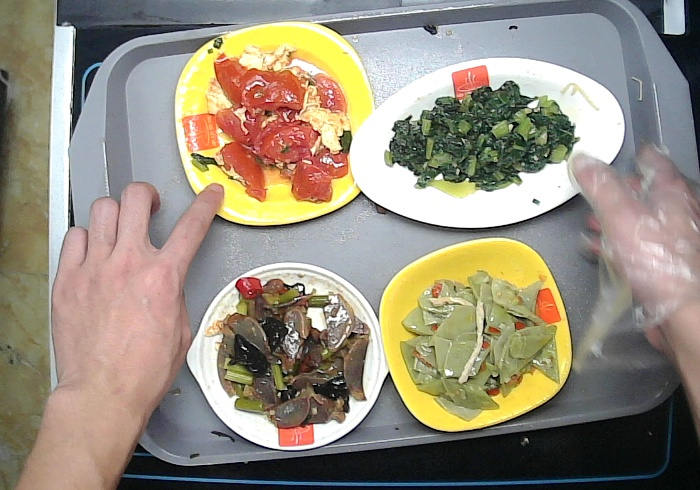SHKJ-Bao_Yu_Pan: (183, 254, 397, 455)
SHKJ-Huang_Se_Cai_Die: (372, 227, 581, 438)
SHKJ-Huang_Se_Si_Fang_Cai_Die: (167, 16, 381, 232)
SHKJ-Yu_Pan: (346, 53, 639, 234)
